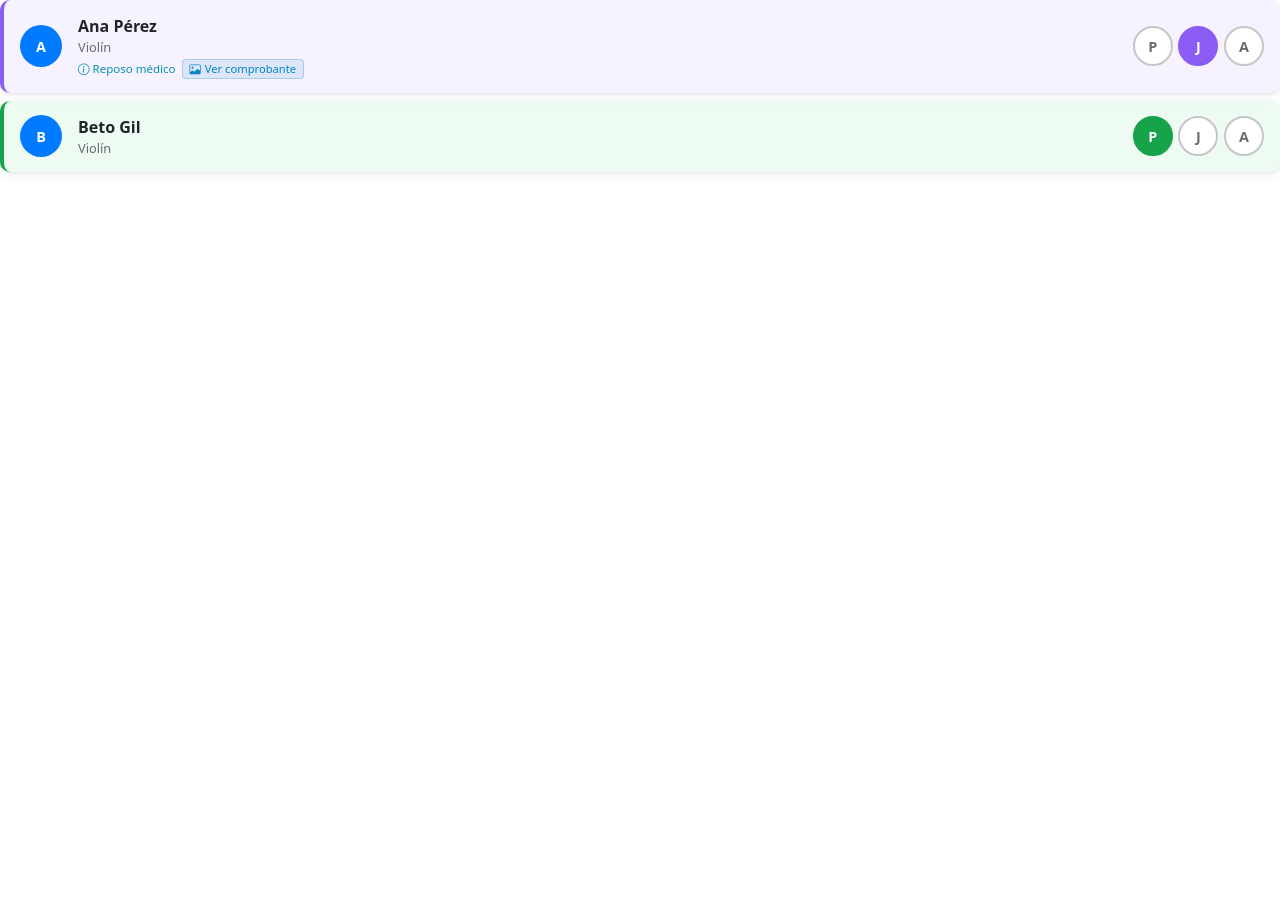
Test case: StudentList — botón de comprobante adjunto › hacer click en "Ver comprobante" abre el modal de visualización de evidencia
The image size is (1280, 900).
Click the button "Ver comprobante" at {"x": 243, "y": 69}, box [182, 59, 304, 79]
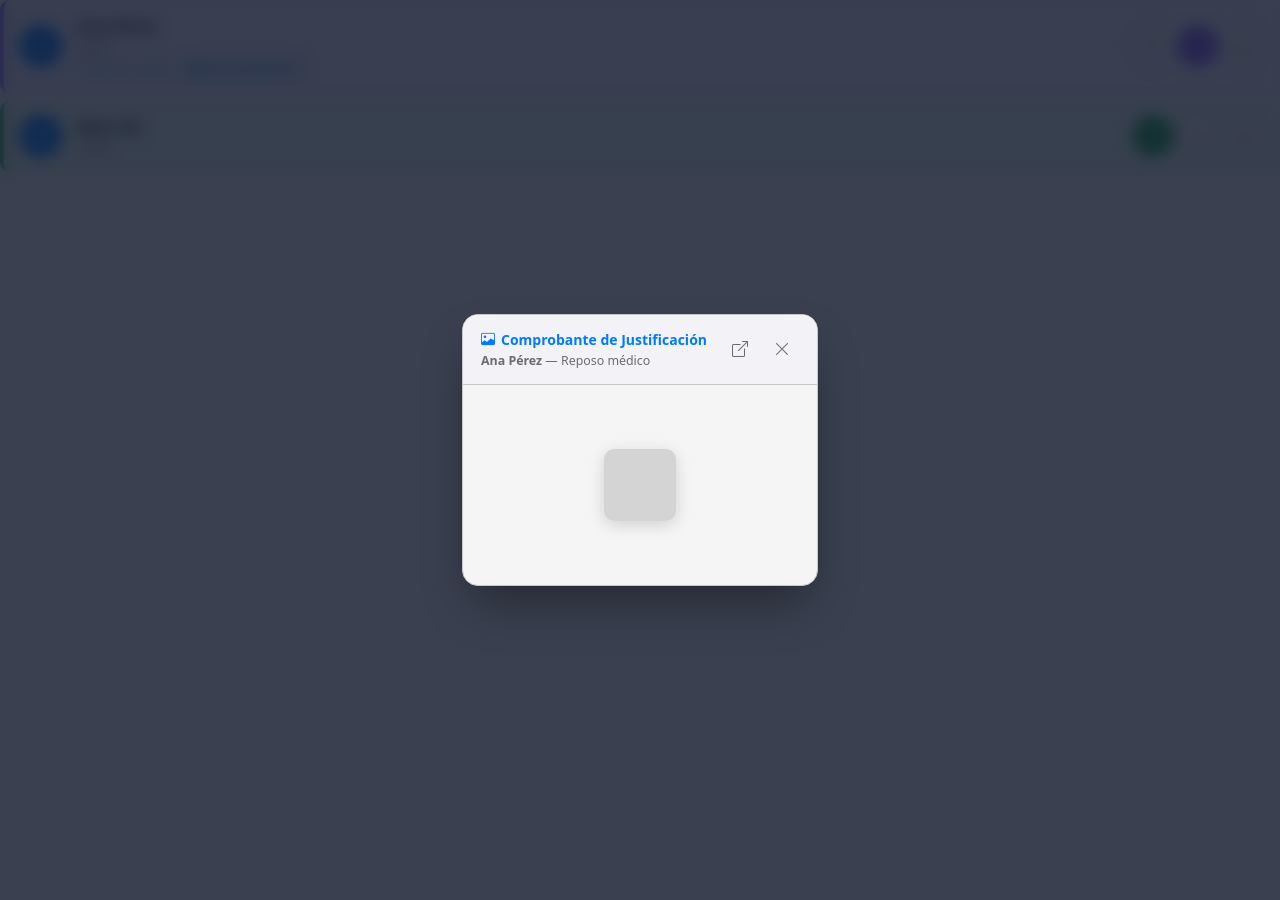
Check: the dialog is shown
Check: the dialog shows "Ana Pérez", box [481, 352, 542, 369]
Check: the dialog shows "Reposo médico", box [542, 352, 650, 369]
Cerrar el modal
Click the button named "Cerrar" at {"x": 782, "y": 350}, box [765, 332, 799, 366]
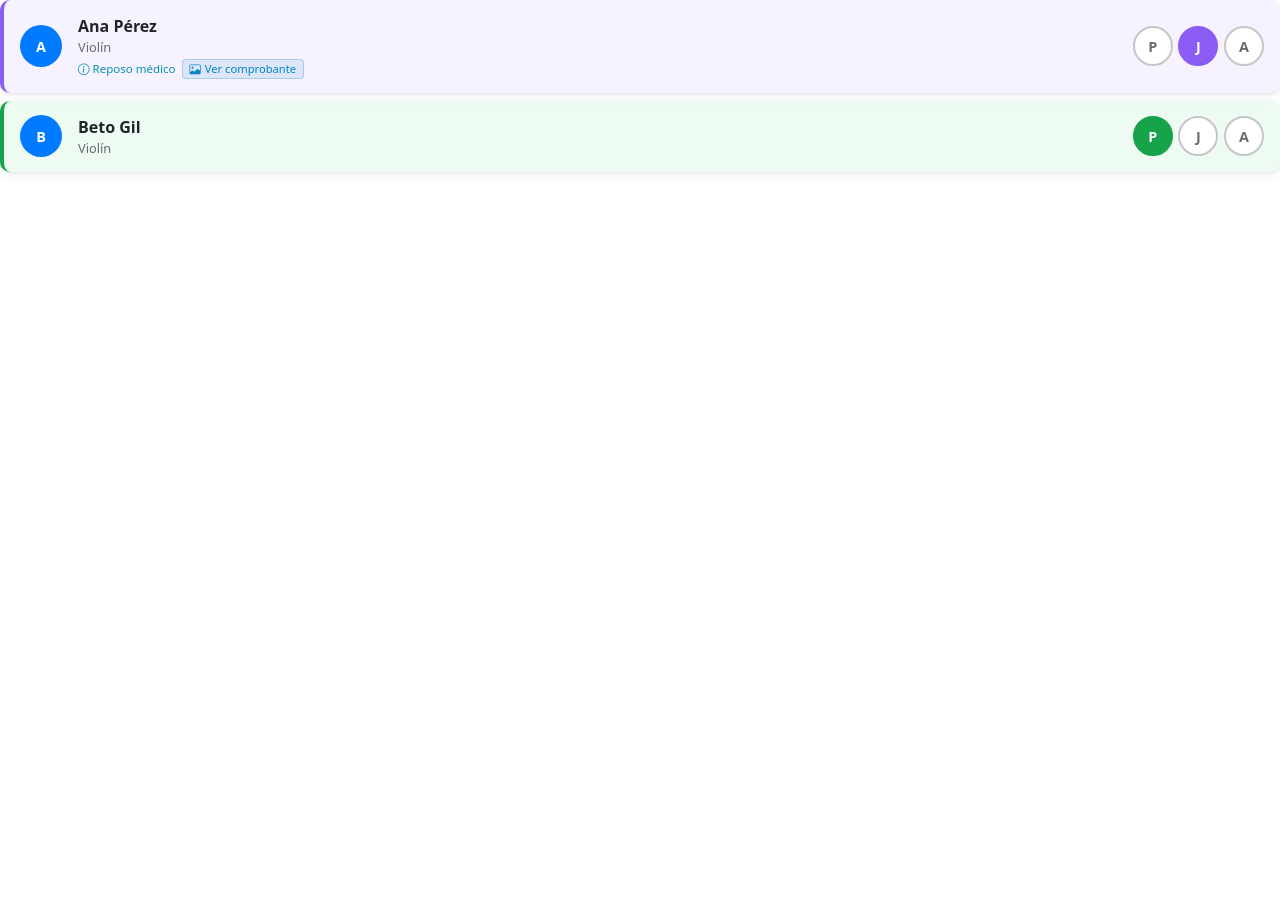
Check: the dialog is gone
